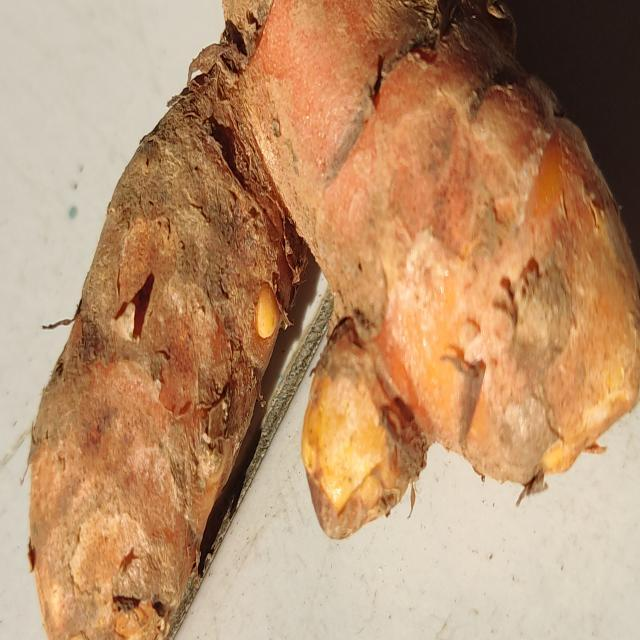ginger: (27, 9, 634, 608)
